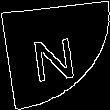N_N: (29, 27, 81, 83)
